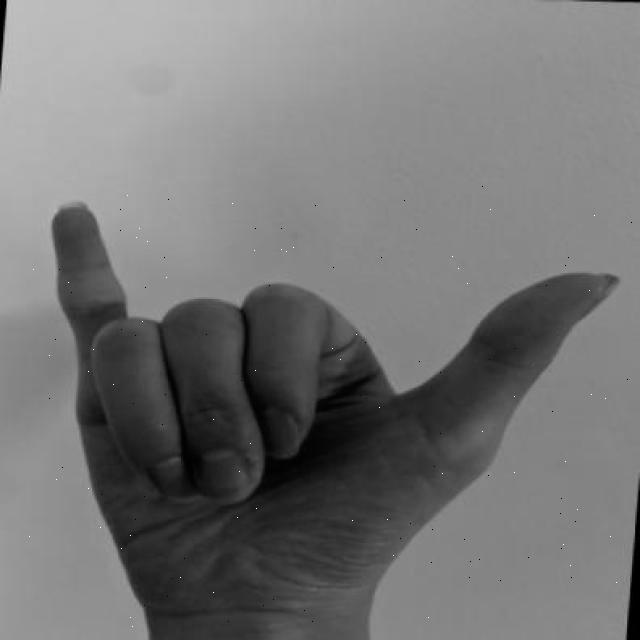Y: (16, 185, 634, 630)
